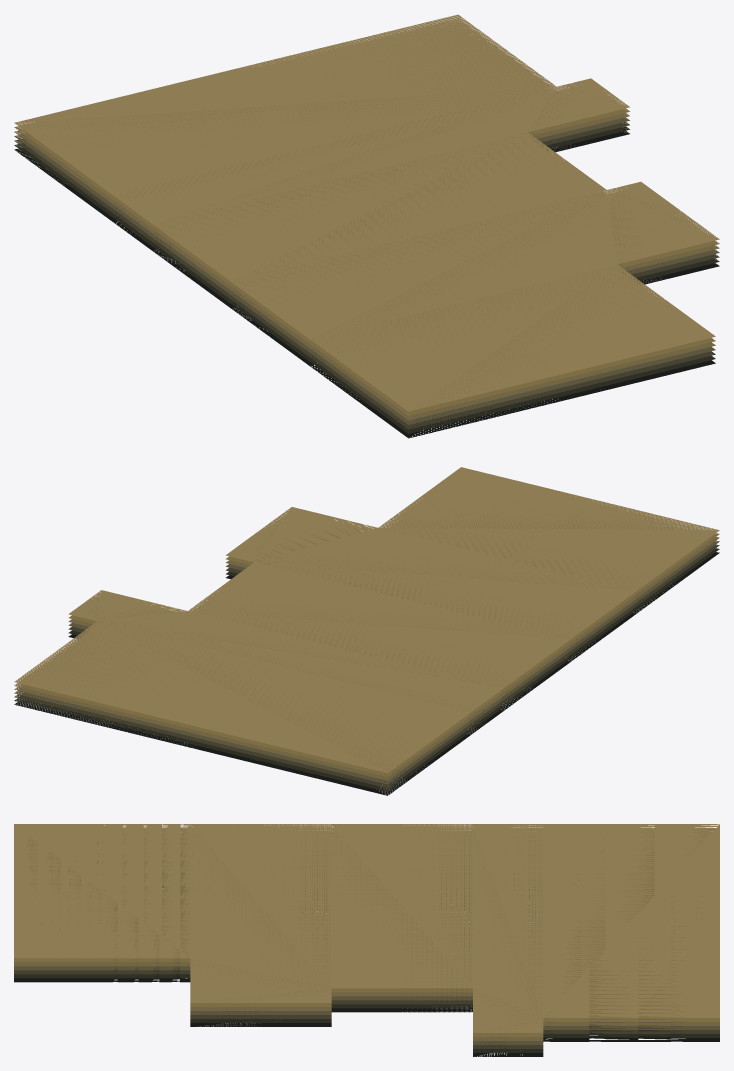
File: swamp-diorama-underland.gltf
The picture shows the model from 3 angles, top to bottom: view 1: azimuth 30°, elevation 25°; view 2: azimuth 150°, elevation 25°; view 3: azimuth 270°, elevation 25°; orthographic projection. The views are drawn at different scales.
Parts seen in each view (by area): view 1: swamp-underland-MERGED.001; view 2: swamp-underland-MERGED.001; view 3: swamp-underland-MERGED.001.
Boxes of the visible parts, x1=… form: swamp-underland-MERGED.001: x1=14, y1=14, x2=719, y2=438; swamp-underland-MERGED.001: x1=14, y1=467, x2=719, y2=795; swamp-underland-MERGED.001: x1=14, y1=824, x2=719, y2=1056.
Bounding box in the file's own units: 11.2 × 0.6 × 16.
1 material, 1 textured.
